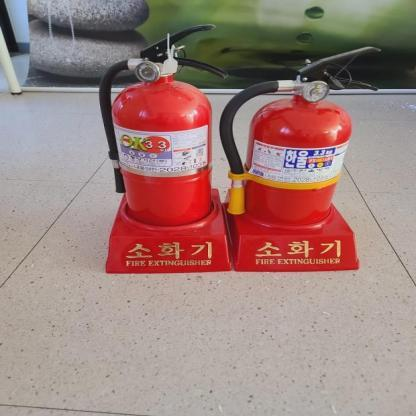Fire Extinguisher: (228, 32, 386, 239), (99, 14, 223, 238)
